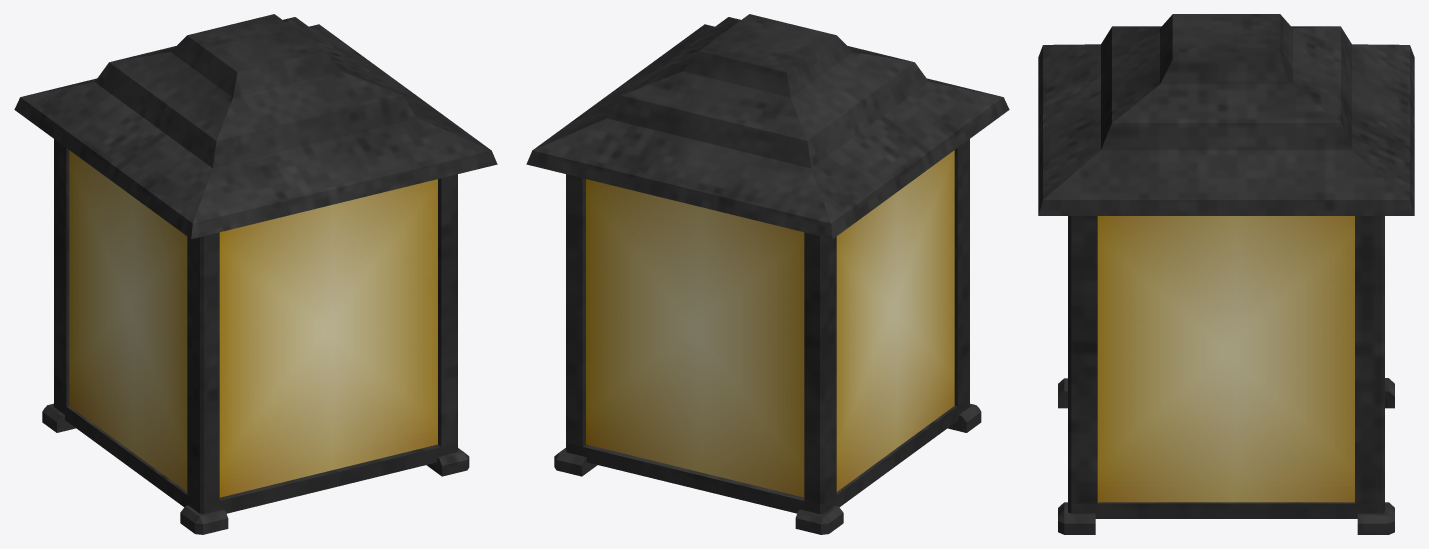
File: MS_Lantern_1.fbx
The picture shows the model from 3 angles, left to right: view 1: azimuth 30°, elevation 25°; view 2: azimuth 150°, elevation 25°; view 3: azimuth 270°, elevation 25°; orthographic projection. The views are drawn at different scales.
Visible parts, largest first — view 1: MSH_Lantern; view 2: MSH_Lantern; view 3: MSH_Lantern.
Boxes of the visible parts, x1,y1,x2,y2 form: MSH_Lantern: [14, 14, 497, 534]; MSH_Lantern: [526, 14, 1009, 534]; MSH_Lantern: [1038, 14, 1414, 534].
Size of the model in its own units: 17.8 by 22.29 by 17.8.
